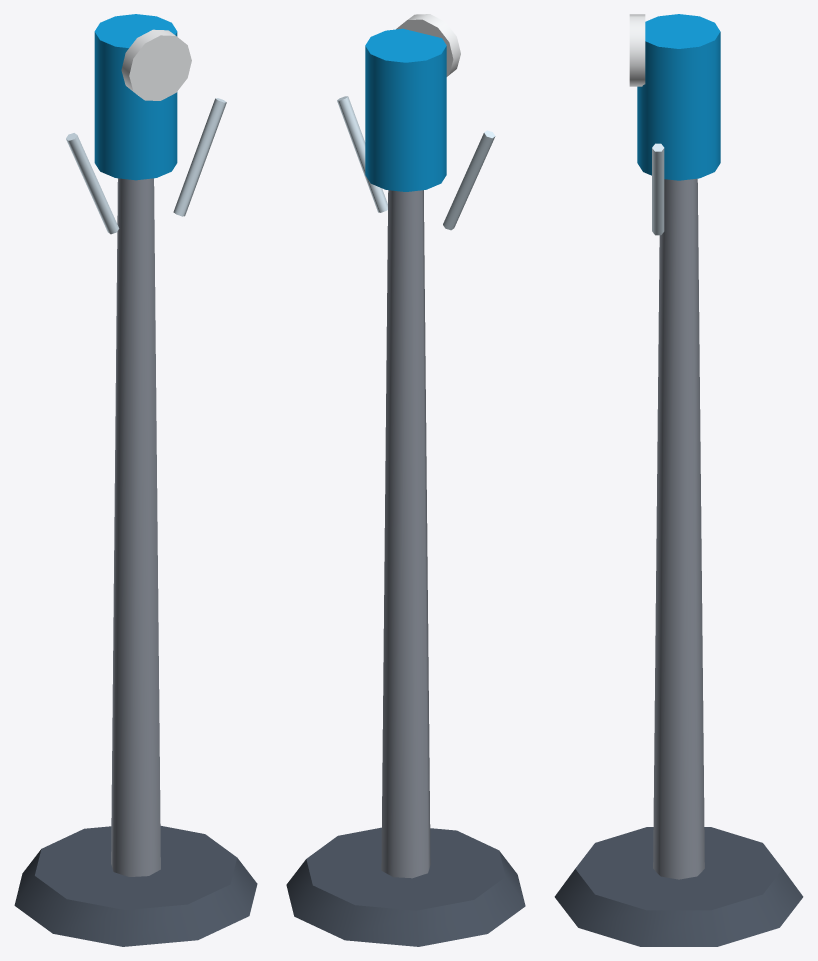
File: parametric-source.glb
3 renders of one model, left to right at view 1: azimuth 30°, elevation 25°; view 2: azimuth 150°, elevation 25°; view 3: azimuth 270°, elevation 25°, orthographic.
Visible parts, largest first — view 1: openclinxr.equipment.oxygen_nasal_cannula_equipment.stand, openclinxr.equipment.oxygen_nasal_cannula_equipment.base, openclinxr.equipment.oxygen_nasal_cannula_equipment.flow_met, openclinxr.equipment.oxygen_nasal_cannula_equipment.dial, openclinxr.equipment.oxygen_nasal_cannula_equipment.prong_r, openclinxr.equipment.oxygen_nasal_cannula_equipment.prong_l; view 2: openclinxr.equipment.oxygen_nasal_cannula_equipment.stand, openclinxr.equipment.oxygen_nasal_cannula_equipment.base, openclinxr.equipment.oxygen_nasal_cannula_equipment.flow_met, openclinxr.equipment.oxygen_nasal_cannula_equipment.dial, openclinxr.equipment.oxygen_nasal_cannula_equipment.prong_l, openclinxr.equipment.oxygen_nasal_cannula_equipment.prong_r; view 3: openclinxr.equipment.oxygen_nasal_cannula_equipment.stand, openclinxr.equipment.oxygen_nasal_cannula_equipment.base, openclinxr.equipment.oxygen_nasal_cannula_equipment.flow_met, openclinxr.equipment.oxygen_nasal_cannula_equipment.dial, openclinxr.equipment.oxygen_nasal_cannula_equipment.prong_r.
Boxes of the visible parts, box(x1,y1,x2,y2) form: openclinxr.equipment.oxygen_nasal_cannula_equipment.stand: box(111, 178, 160, 876); openclinxr.equipment.oxygen_nasal_cannula_equipment.base: box(14, 826, 257, 946); openclinxr.equipment.oxygen_nasal_cannula_equipment.flow_met: box(94, 14, 177, 180); openclinxr.equipment.oxygen_nasal_cannula_equipment.dial: box(121, 29, 191, 100); openclinxr.equipment.oxygen_nasal_cannula_equipment.prong_r: box(173, 98, 226, 216); openclinxr.equipment.oxygen_nasal_cannula_equipment.prong_l: box(66, 133, 119, 234); openclinxr.equipment.oxygen_nasal_cannula_equipment.stand: box(381, 190, 430, 878); openclinxr.equipment.oxygen_nasal_cannula_equipment.base: box(286, 827, 525, 946); openclinxr.equipment.oxygen_nasal_cannula_equipment.flow_met: box(365, 28, 446, 191); openclinxr.equipment.oxygen_nasal_cannula_equipment.dial: box(396, 14, 460, 76); openclinxr.equipment.oxygen_nasal_cannula_equipment.prong_l: box(443, 130, 495, 230); openclinxr.equipment.oxygen_nasal_cannula_equipment.prong_r: box(337, 96, 387, 212); openclinxr.equipment.oxygen_nasal_cannula_equipment.stand: box(653, 178, 704, 879); openclinxr.equipment.oxygen_nasal_cannula_equipment.base: box(554, 827, 803, 946); openclinxr.equipment.oxygen_nasal_cannula_equipment.flow_met: box(637, 14, 720, 180); openclinxr.equipment.oxygen_nasal_cannula_equipment.dial: box(629, 14, 645, 86); openclinxr.equipment.oxygen_nasal_cannula_equipment.prong_r: box(652, 143, 664, 235).
Size of the model in its own units: 0.2283 by 0.935 by 0.24.
